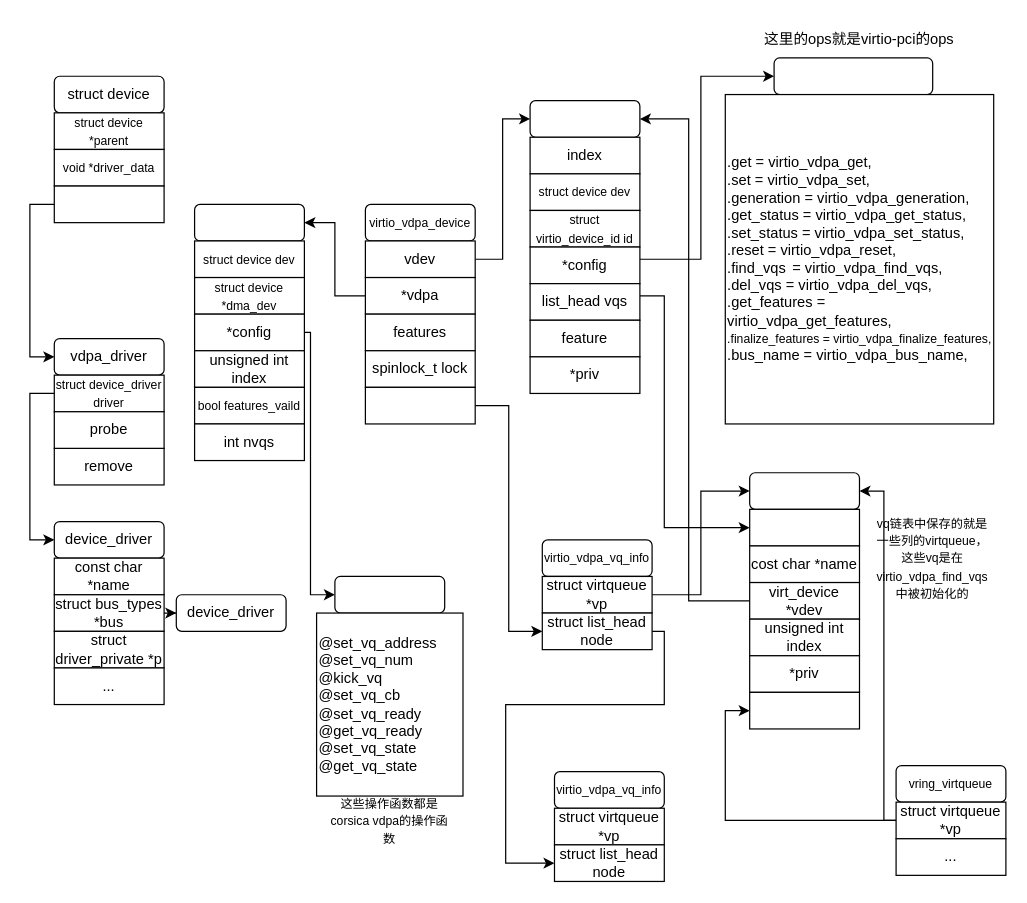
Some shapes in this 1027 by 903 pixel diagram are drawn without their labels. The shapes that lost their labels are listed below. From the top down, each one's centre as x and y in pixels, then its label:
At pixel 853 76: "virtio_vdpa_config_ops".
At pixel 584 118: "virtio_device".
At pixel 108 204: "driver".
At pixel 248 222: "vdpa_device".
At pixel 419 405: "list_head virtqueues".
At pixel 803 490: "virtqueue".
At pixel 803 527: "struct list_headlist".
At pixel 389 594: "vdpa_config_ops".
At pixel 803 710: "*callback".
